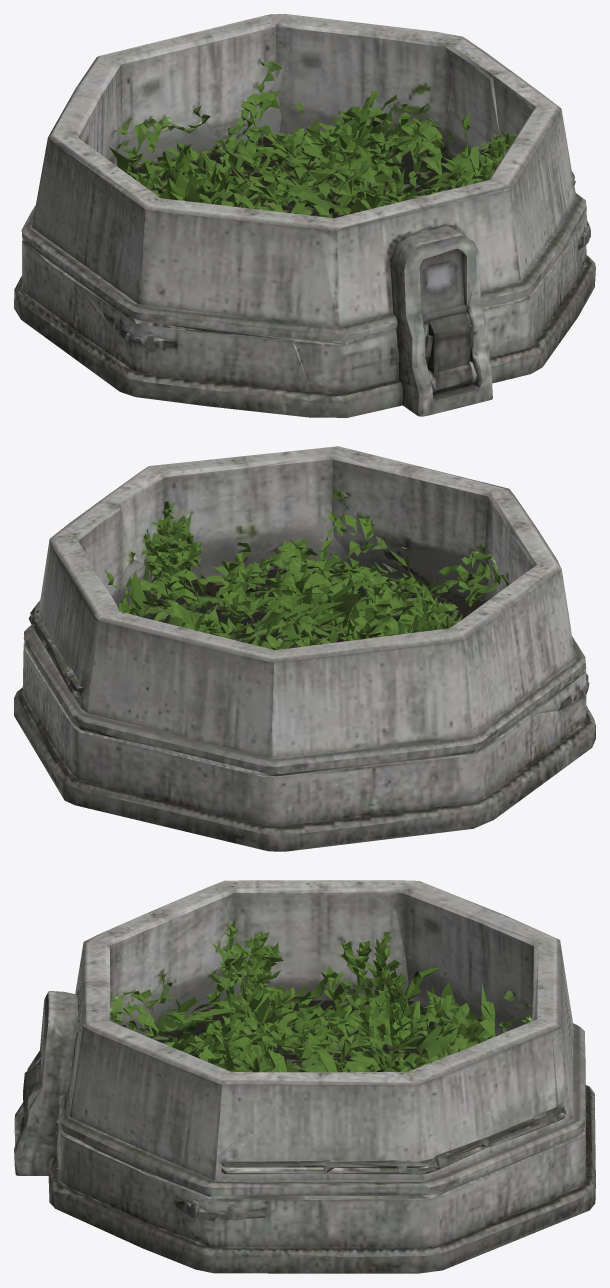
File: node.food_source.glb
3 renders of one model, top to bottom at view 1: azimuth 30°, elevation 25°; view 2: azimuth 150°, elevation 25°; view 3: azimuth 270°, elevation 25°, orthographic.
Visible parts, largest first — view 1: body; view 2: body; view 3: body.
Boxes of the visible parts, x1,y1,x2,y2 form: body: (14, 14, 595, 417); body: (14, 446, 595, 851); body: (14, 880, 595, 1273).
Bounding box in the file's own units: 2.07 × 0.7409 × 2.2.
1 material, 1 textured.
